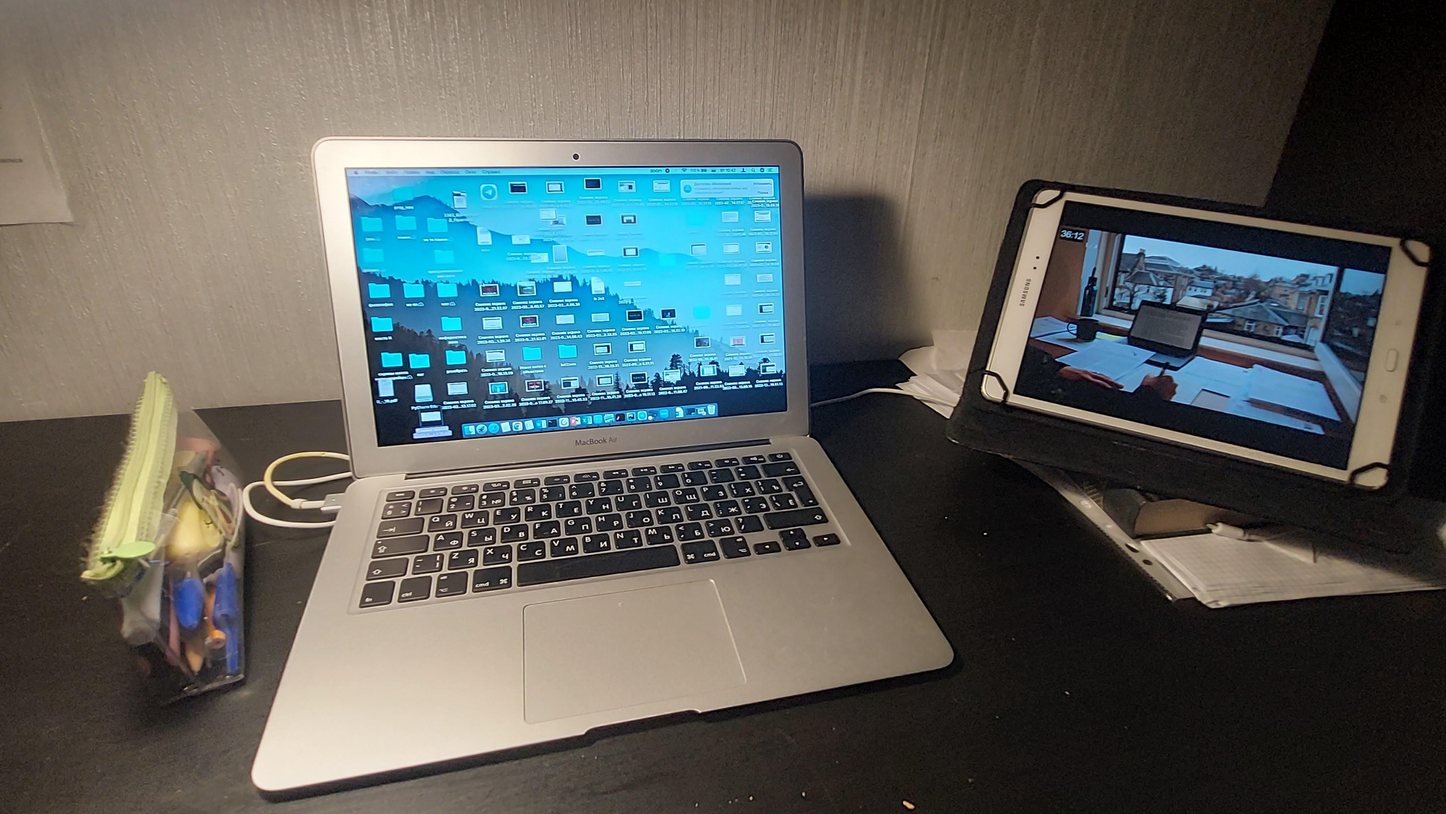monitor: (304, 128, 817, 493), (969, 177, 1435, 495)
